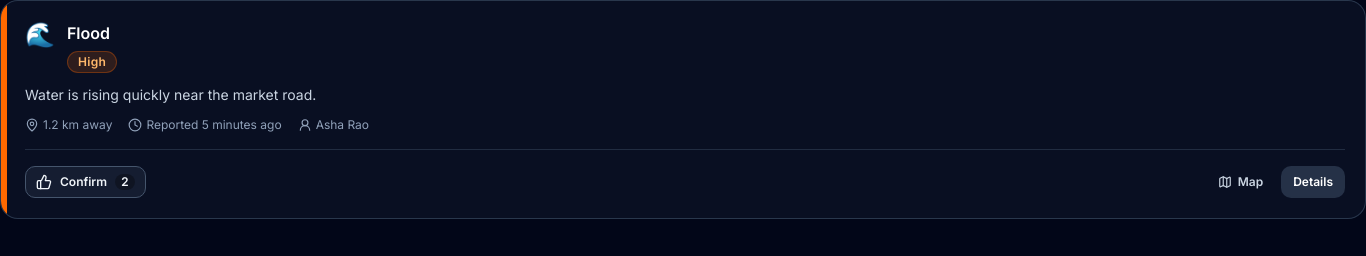
Test: IncidentCard › asks to sign in again when the session expired (401)
Click the button with aria-label "Confirm this incident" at (85, 182), box [25,166,146,198]
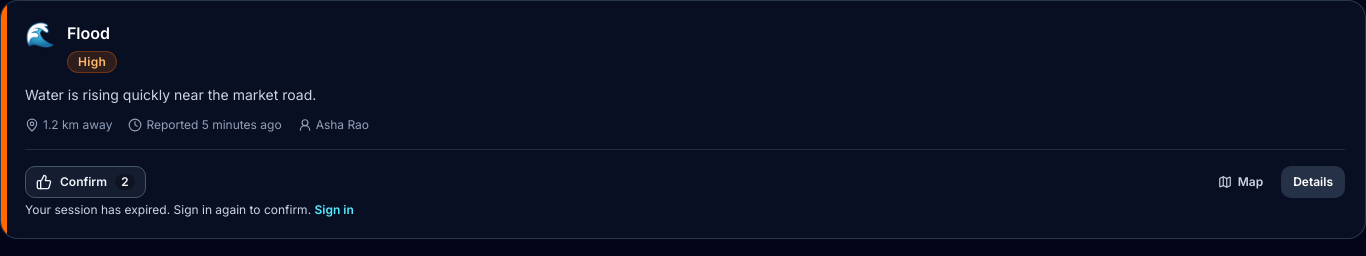
Expected: the text with test id "upvote-count" reads "2", [121,174,129,189]
Result: the text "Your session has expired. Sign in again to confirm. Sign in" is shown at [25,202,354,218]
Result: the link "Sign in" is shown at [314,202,354,217]
